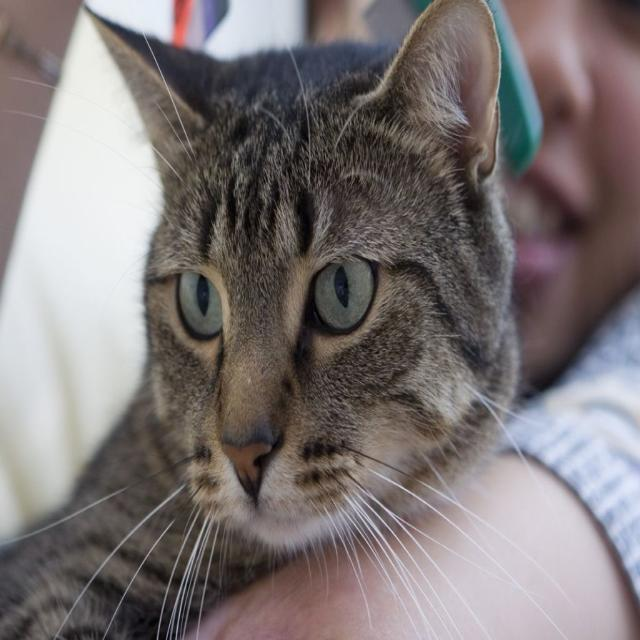Cat: (0, 0, 573, 638)
